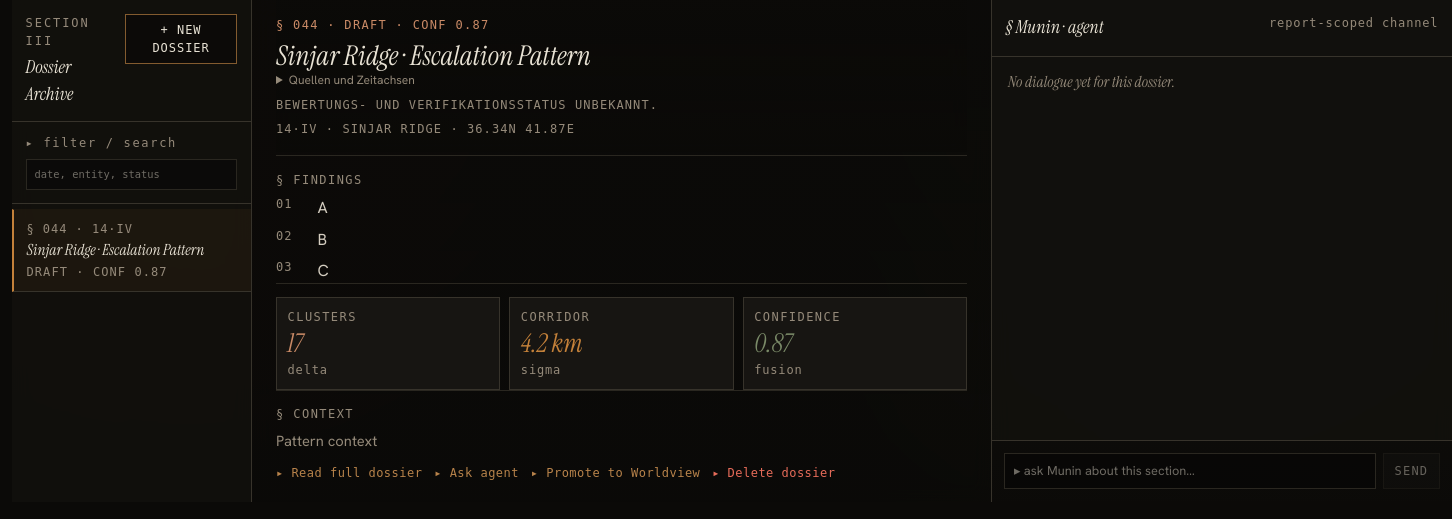
Test case: BriefingPage › creates a new dossier from backend
Step 1. Click the button "+ New Dossier" → click(181, 39), box [125,14,237,64]
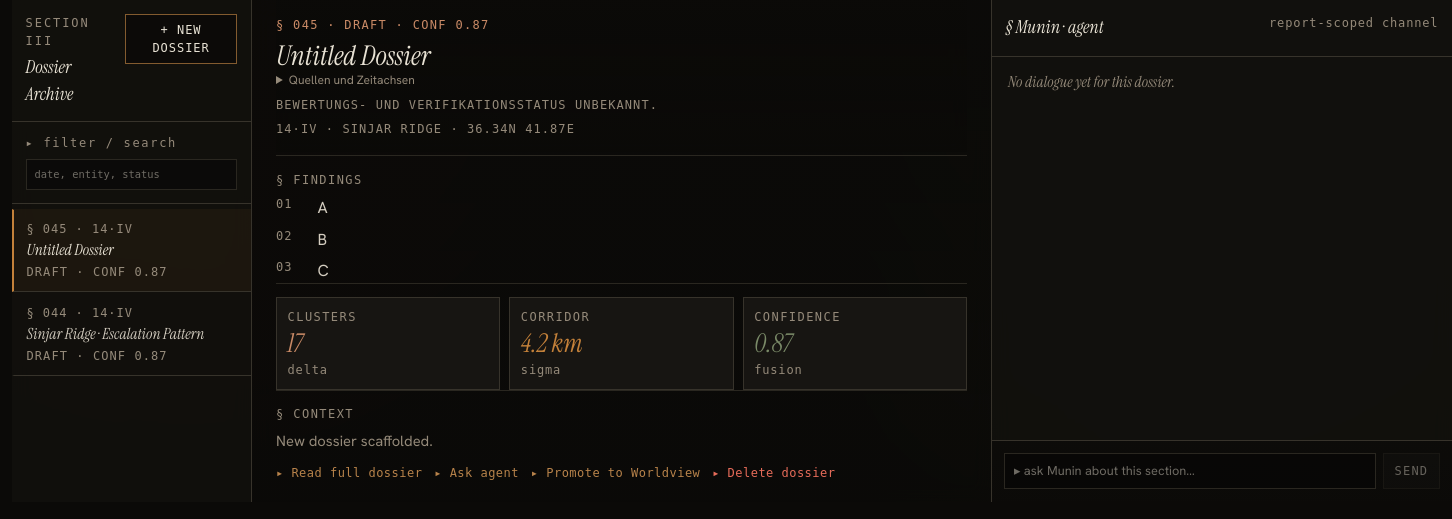
Expected: the text "Untitled Dossier" is shown, [26,240,114,260]
